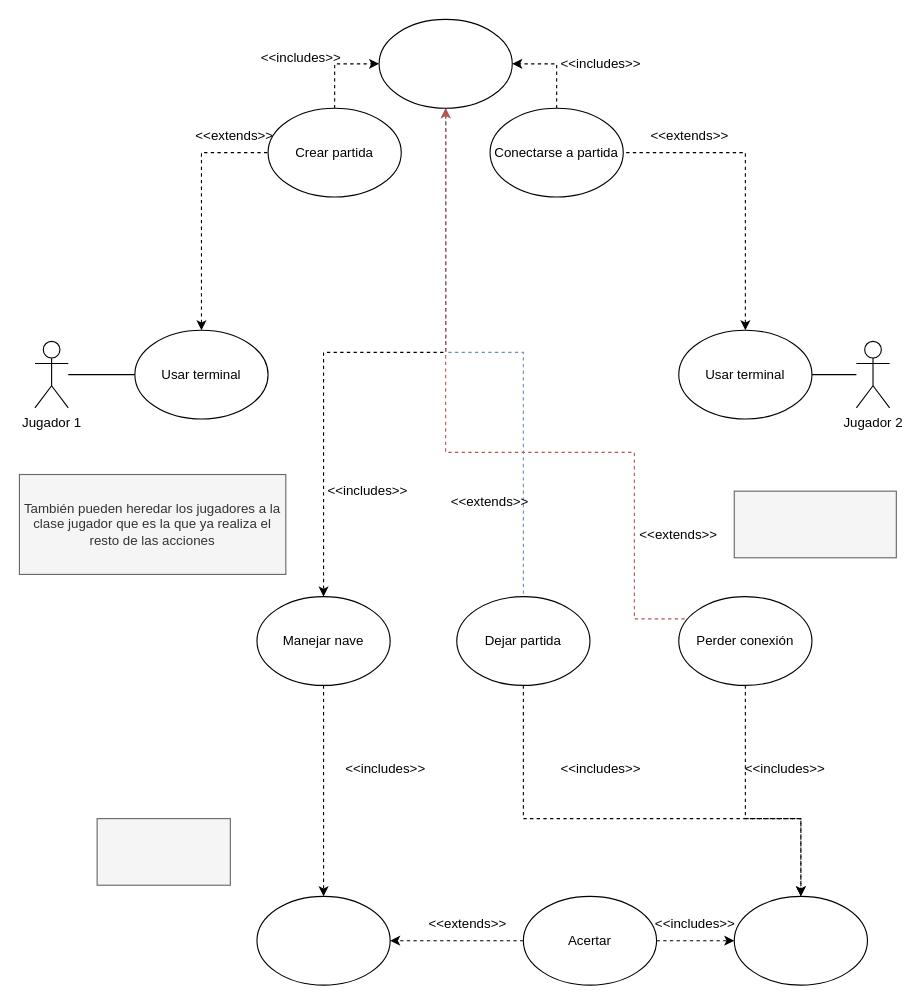
Image size: 921x1005. Some labels were removed from this diagram. Here are the shapes that lost their labels. From the top down, the box of each, then its label:
(378, 18, 512, 108): Jugar
(733, 490, 896, 558): Perder la conexión es un evento externo que no depende del jugador como tal
(96, 818, 230, 885): Disparar y manejar son acciones independientes
(256, 895, 390, 985): Disparar al contrario
(733, 895, 867, 985): Fin del juego
